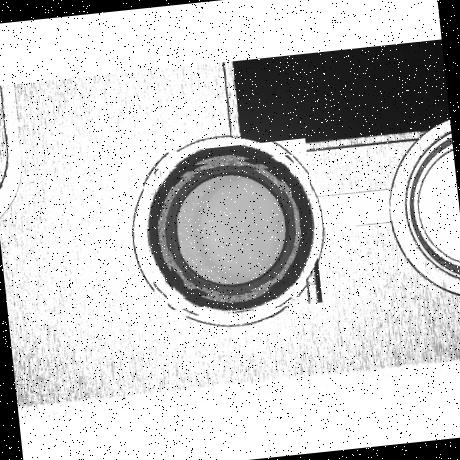Hole: (140, 138, 322, 320)
Hole2: (152, 154, 308, 310)
Hole3: (161, 161, 301, 300)
Hole4: (172, 167, 292, 289)
